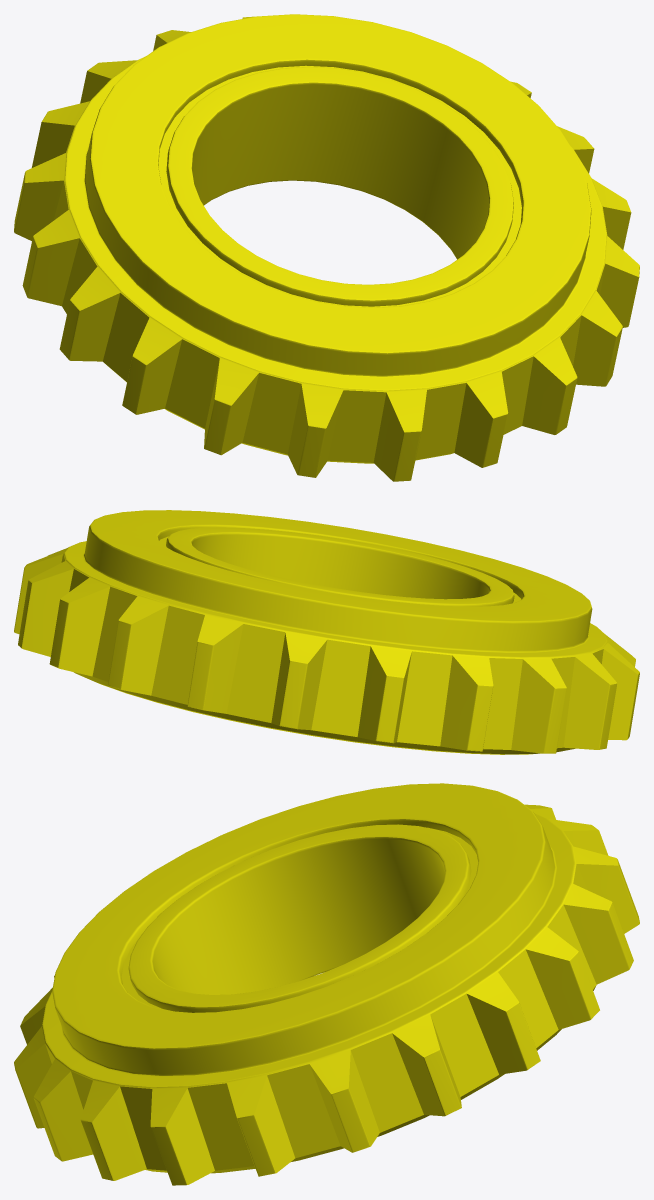
File: gear.fbx
The picture shows the model from 3 angles, top to bottom: view 1: azimuth 30°, elevation 25°; view 2: azimuth 150°, elevation 25°; view 3: azimuth 270°, elevation 25°; orthographic projection. The views are drawn at different scales.
Parts seen in each view (by area): view 1: Gear1; view 2: Gear1; view 3: Gear1.
Part boxes in pixels (bbox=[...]): Gear1: bbox=[14, 14, 639, 481]; Gear1: bbox=[14, 510, 639, 754]; Gear1: bbox=[14, 783, 639, 1185].
Size of the model in its own units: 2.23 by 1.05 by 2.19.
